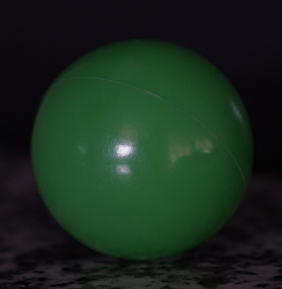Ball: (31, 40, 254, 260)
